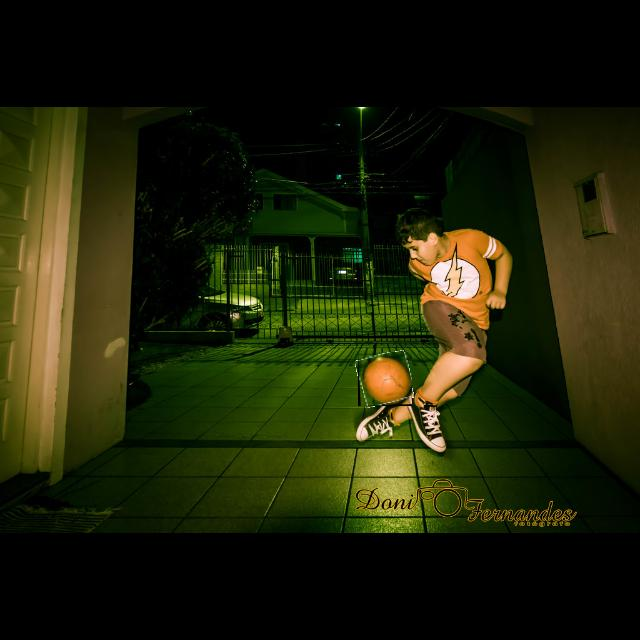Football: (358, 352, 412, 406)
